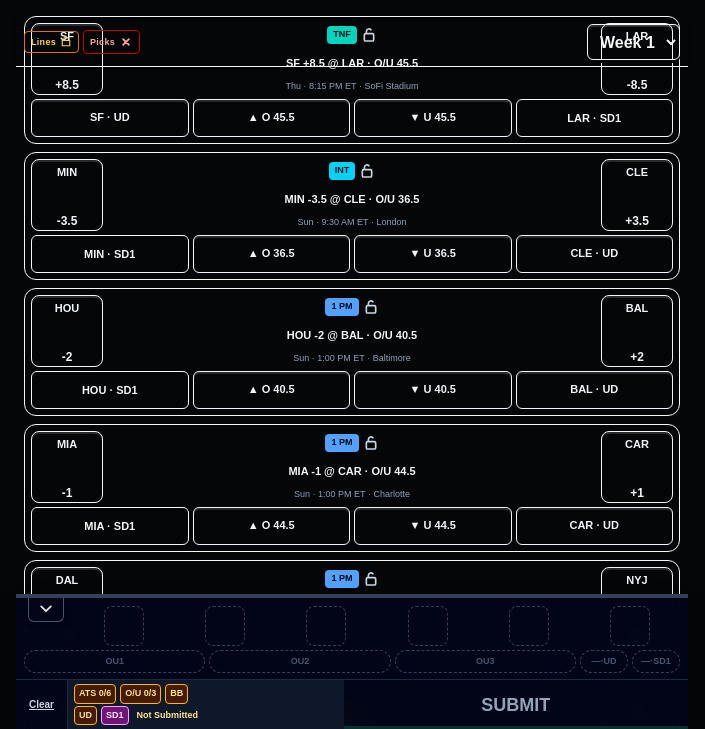
Test: Home › removes stale SD drafts from eliminated entrants' submissions
Step 1. Click the button "SUBMIT" → (516, 704), box [344,680,688,728]
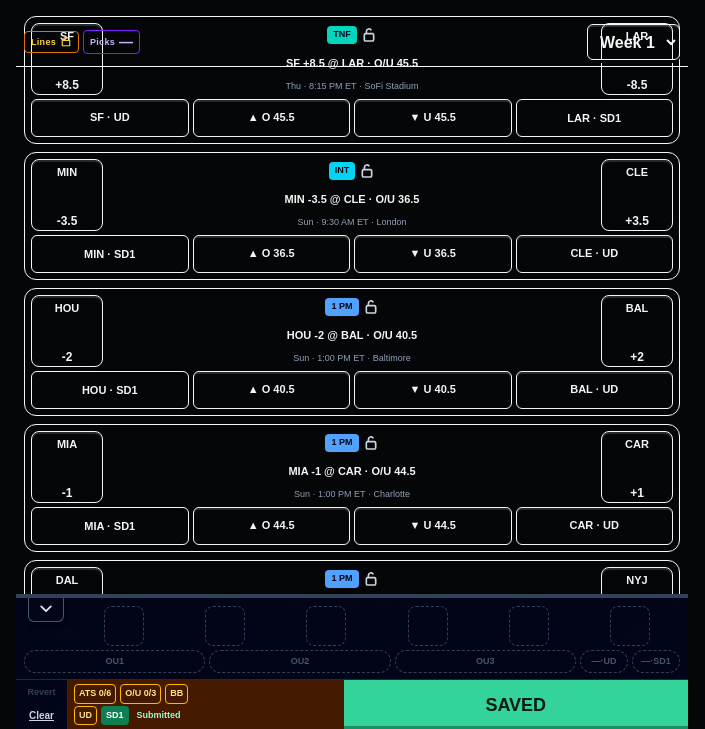
Expected: the button "SAVED" is shown, [344,680,688,728]
